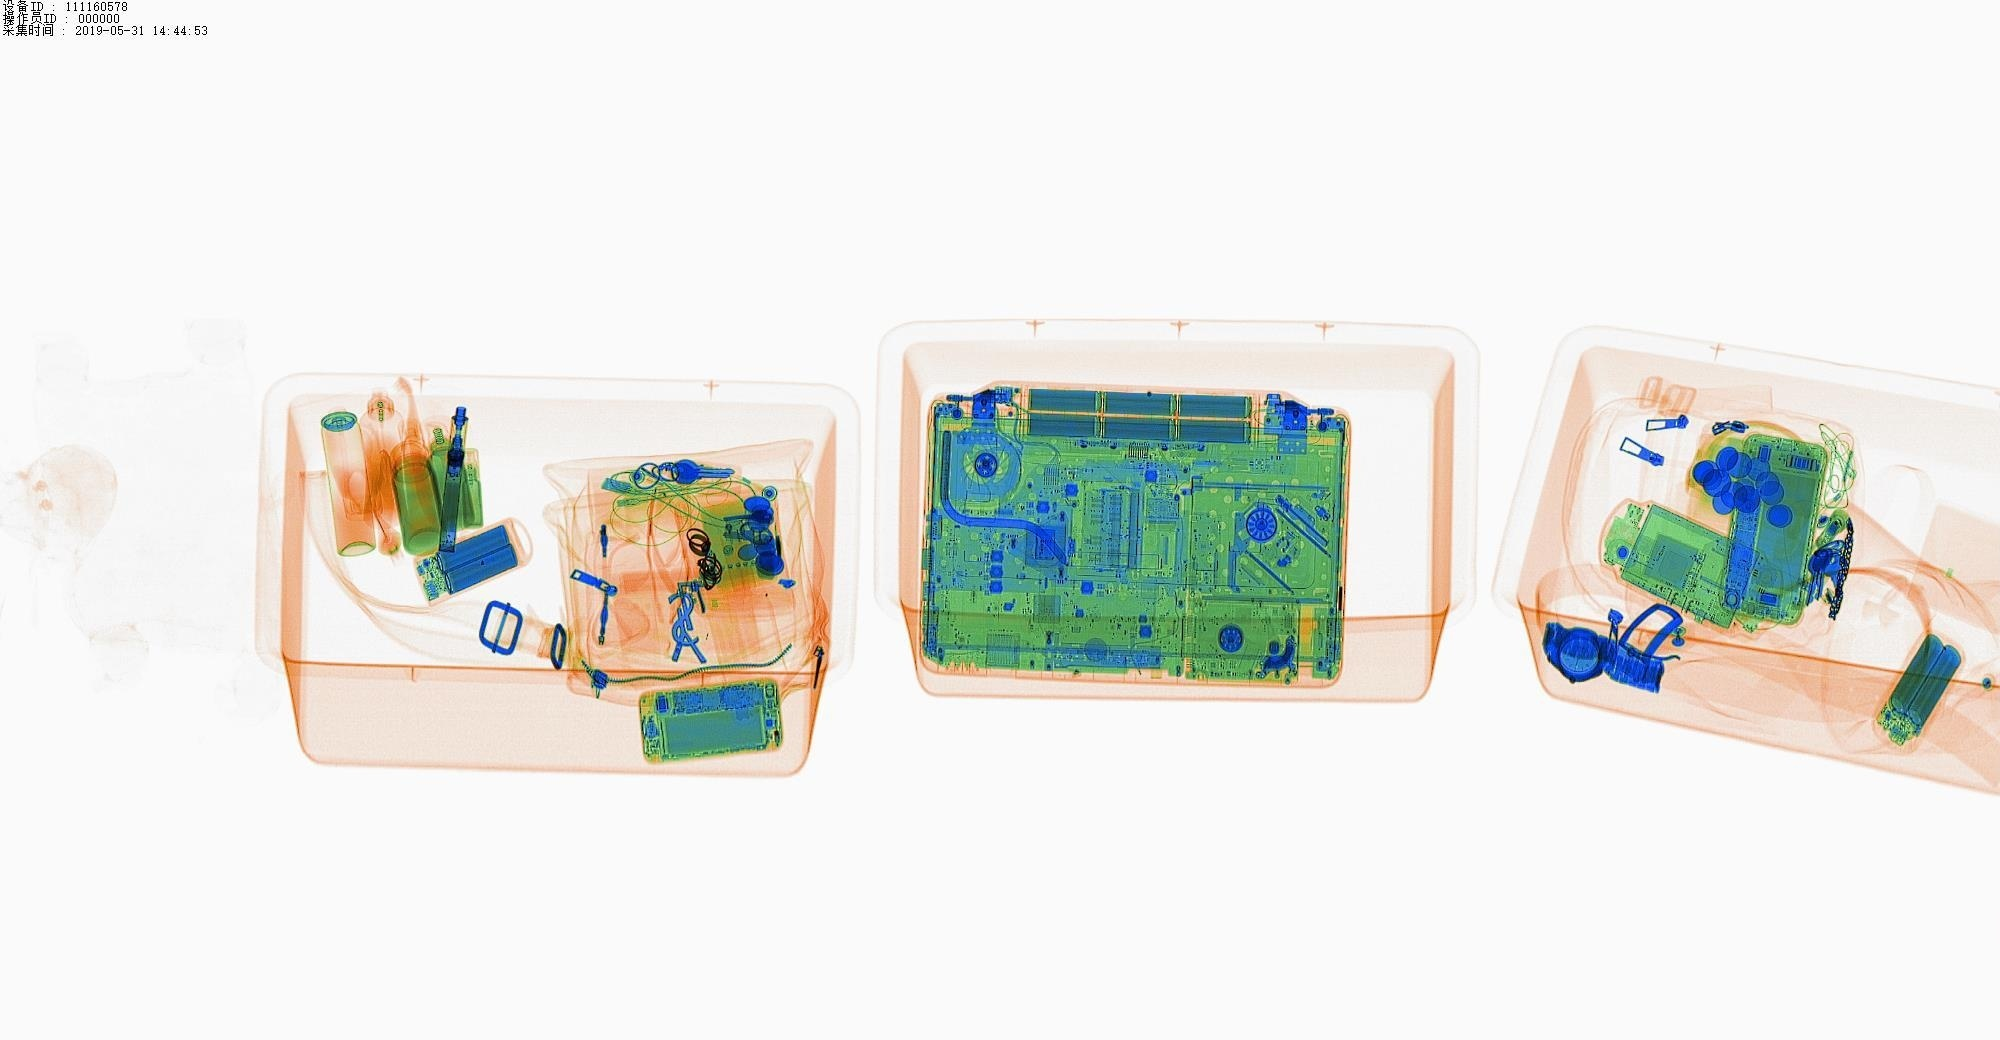NonmetallicFire: (712, 513, 769, 607)
